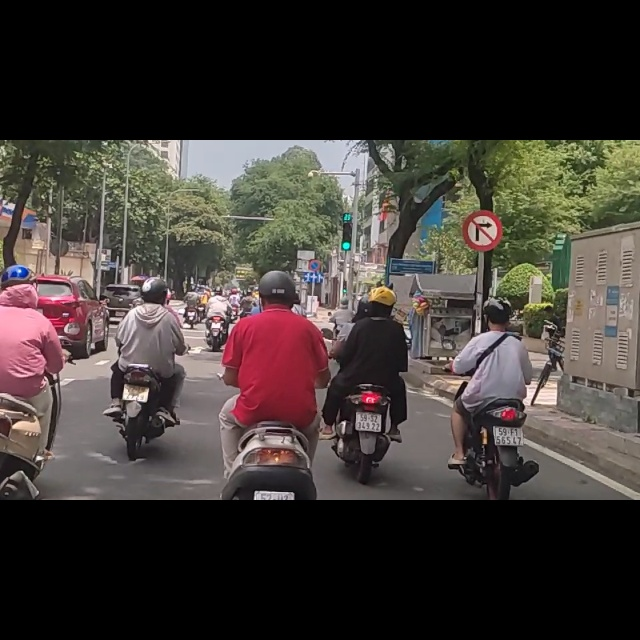bien_chi_dan: (464, 130, 501, 197), (307, 211, 320, 235)
